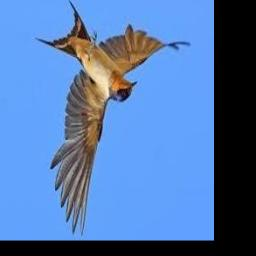Swallow: (34, 0, 190, 236)
